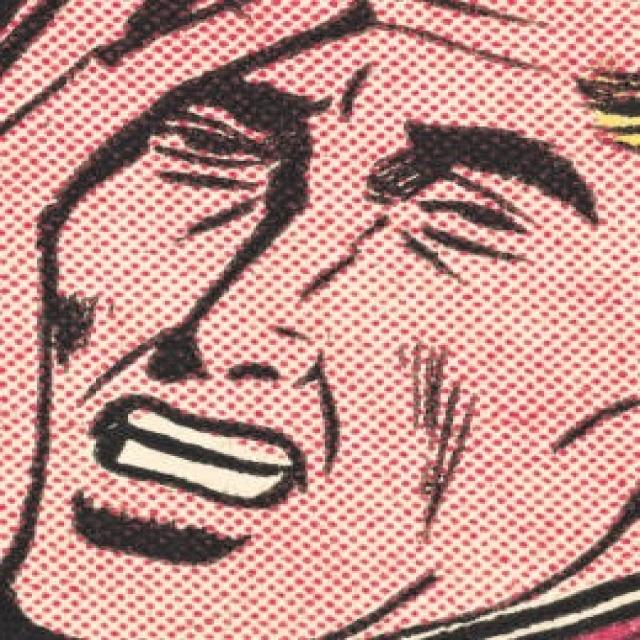Anxiety: (4, 0, 640, 638)
